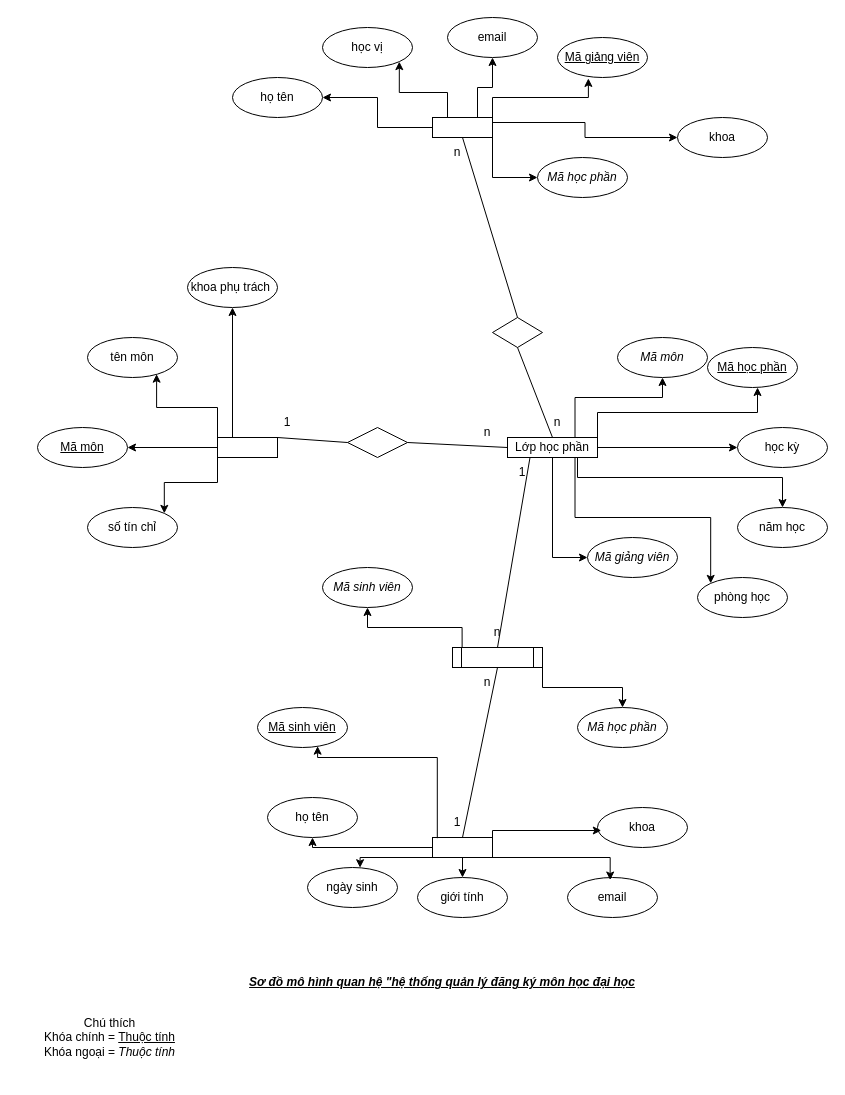
Some shapes in this 845 by 1095 pixel diagram are drawn without their labels. Each missing label, with the box of its shape:
Dạy: (492, 316, 542, 348)
Giảng viên: (432, 116, 492, 138)
Môn học: (216, 436, 278, 458)
Sinh viên: (432, 836, 492, 858)
Thuộc: (346, 426, 408, 458)
Đăng ký: (452, 646, 542, 668)
